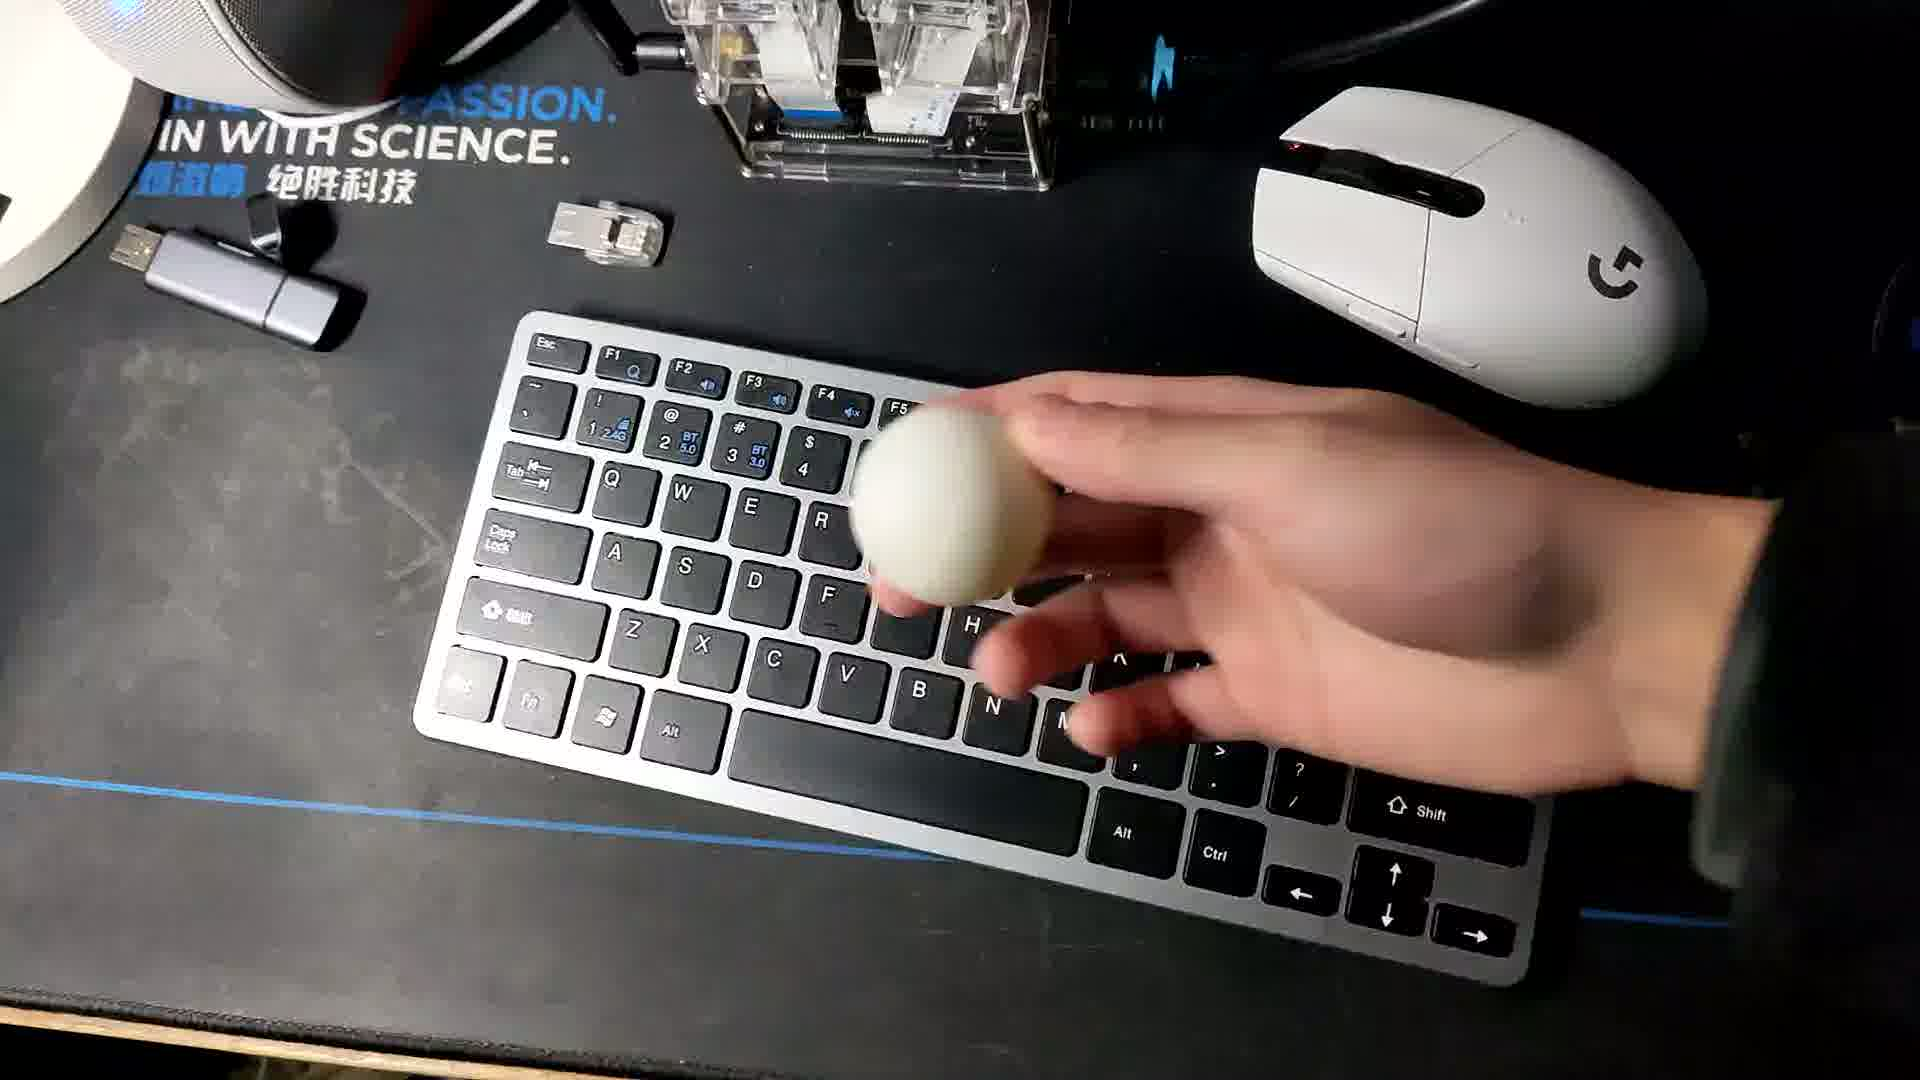Ball: (841, 411, 1047, 608)
